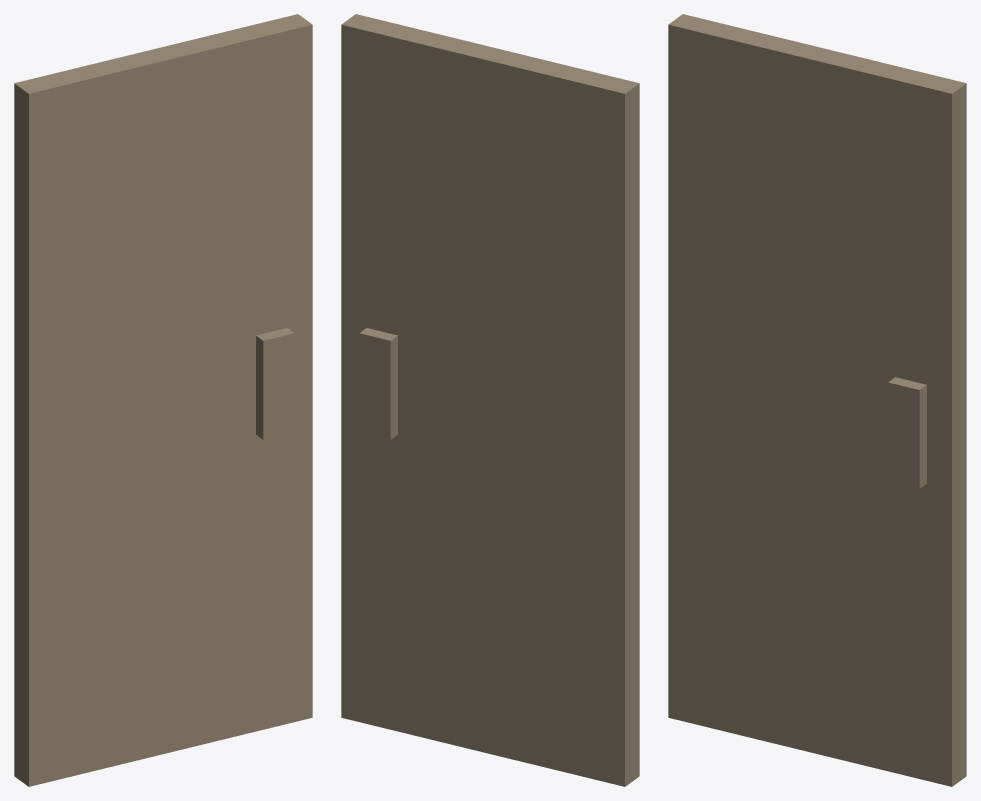
The model's file is door-1x2.glb.
The picture shows the model from 3 angles, left to right: view 1: azimuth 30°, elevation 25°; view 2: azimuth 150°, elevation 25°; view 3: azimuth 330°, elevation 25°; orthographic projection.
Parts seen in each view (by area): view 1: door-1x2; view 2: door-1x2; view 3: door-1x2.
Boxes of the visible parts, x1,y1,x2,y2 form: door-1x2: (14, 14, 312, 786); door-1x2: (341, 14, 639, 786); door-1x2: (668, 14, 966, 786).
Bounding box in the file's own units: 0.9 × 2.1 × 0.16.
